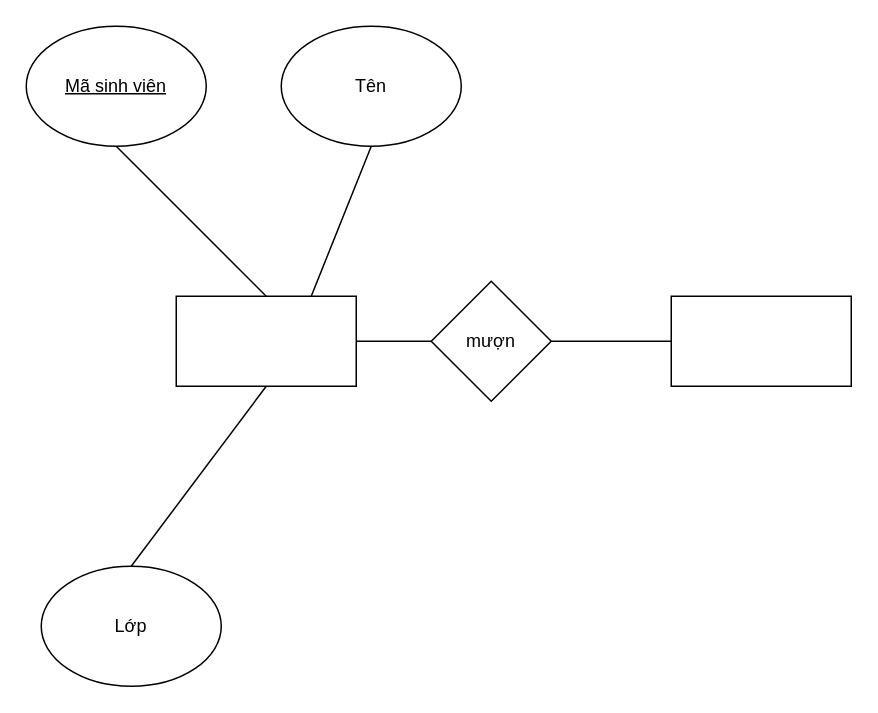
The diagram is 878 pixels wide and 713 high, and some of its shapes have lost their labels. Here are the shapes that lost their labels. From the top down, the box of each, then its label:
(175, 295, 356, 386): STUDENTS
(670, 295, 851, 386): BOOKS
